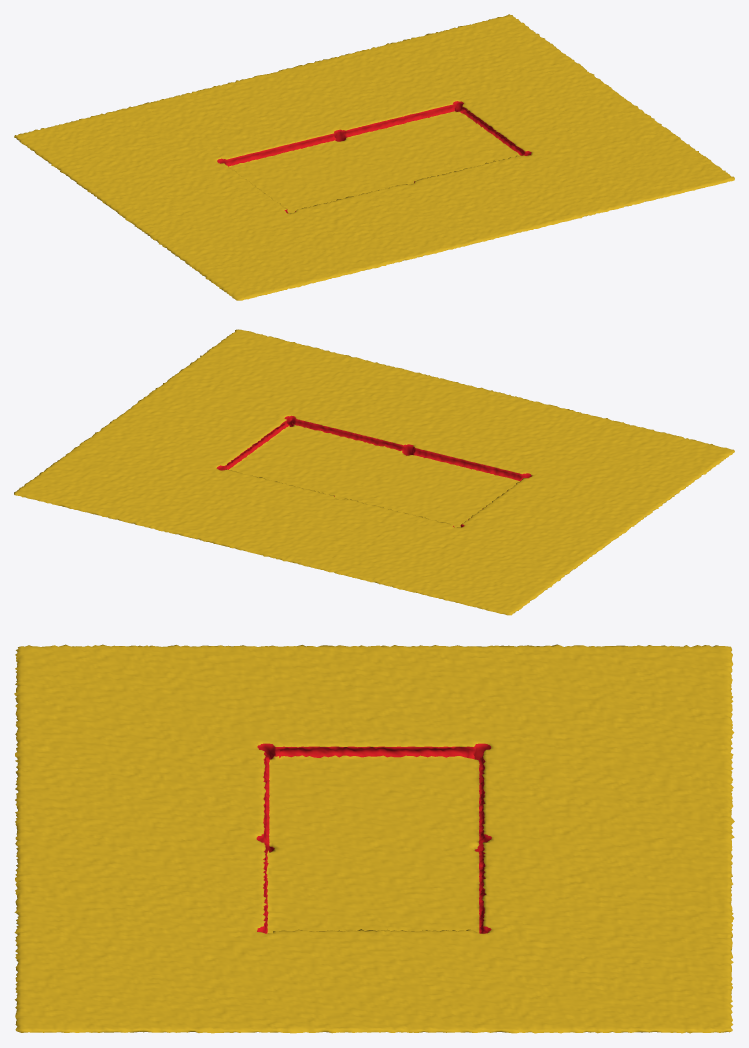
The model's file is F_Table_01.fbx.
3 views of the same model, one above another, from view 1: azimuth 30°, elevation 25°; view 2: azimuth 150°, elevation 25°; view 3: azimuth 270°, elevation 25° (orthographic). The views are drawn at different scales.
Visible parts, largest first — view 1: F_Table_01; view 2: F_Table_01; view 3: F_Table_01.
Part boxes in pixels (bbox=[...]): F_Table_01: bbox=[14, 14, 734, 300]; F_Table_01: bbox=[14, 329, 734, 615]; F_Table_01: bbox=[14, 644, 734, 1033].
Bounding box in the file's own units: 15359 × 1634 × 12076.
